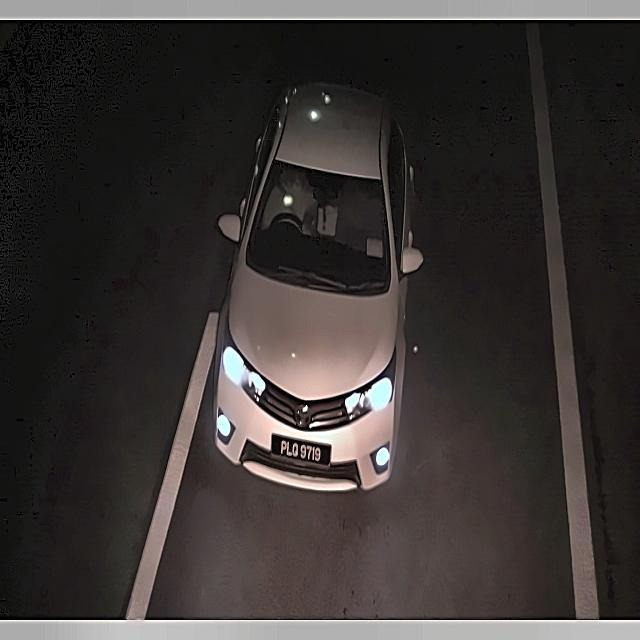car: (269, 434, 332, 473)
